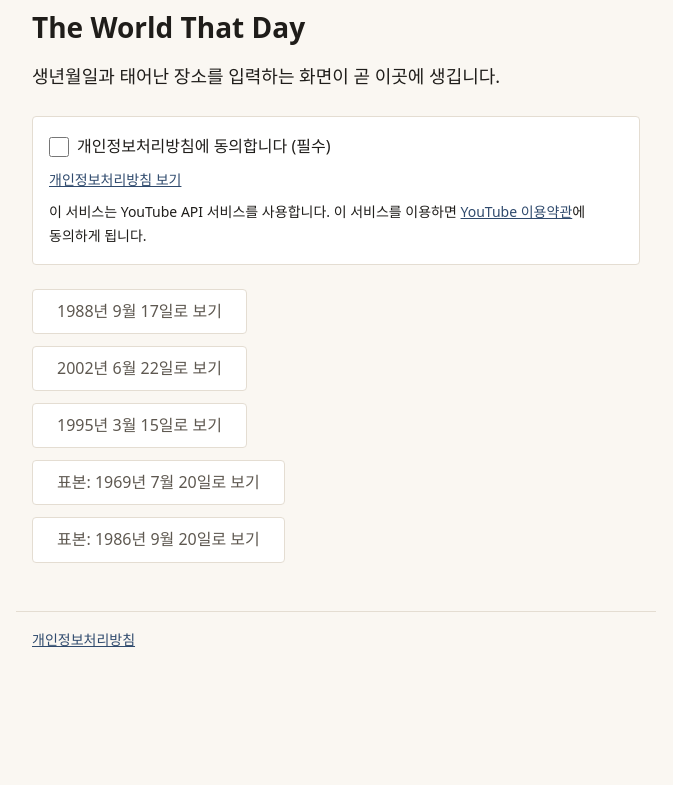
Test: event media and source links (CLAUDE.md 7.1) › keeps a non-http source URL as plain text, never a link
Step 1. Click the checkbox labelled "개인정보처리방침에 동의합니다 (필수)" → (59, 147), box [49, 137, 69, 157]
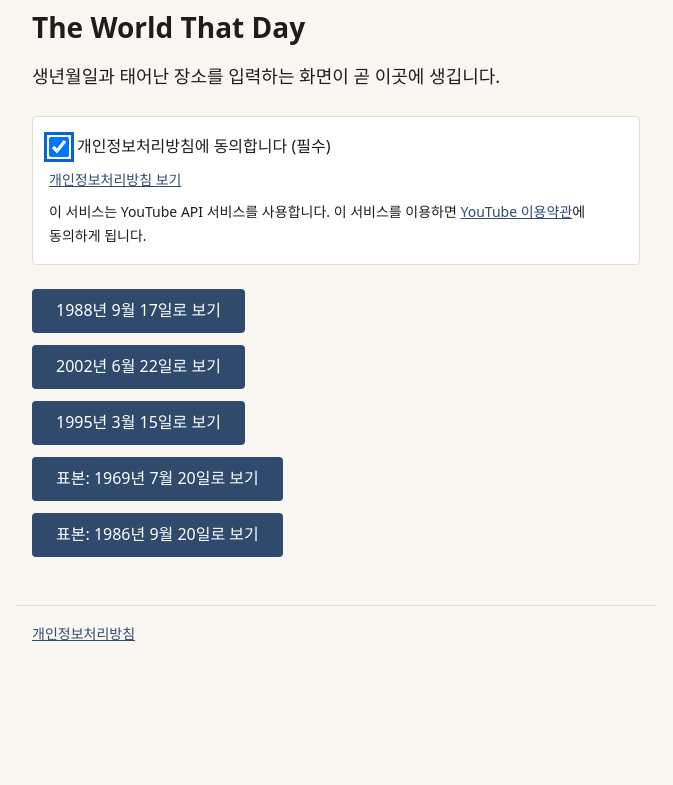
Step 2. Click the button "1988년 9월 17일로 보기" → (138, 311), box [32, 289, 245, 333]
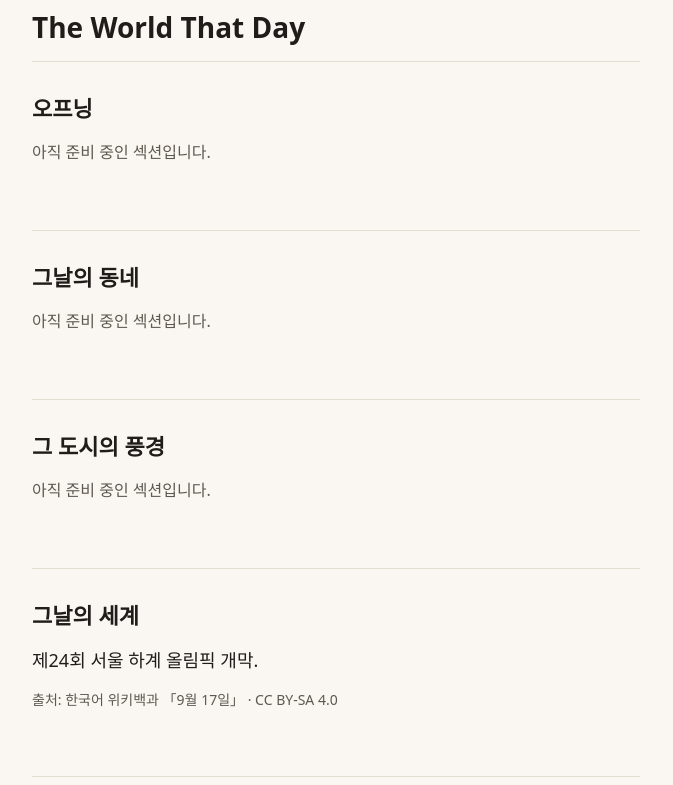
Now no the link "개인정보처리방침 보기" are shown
Now the list item shows "출처: 한국어 위키백과 「9월 17일」", box [32, 648, 338, 709]
Now the list item shows "CC BY-SA 4.0", box [255, 690, 338, 709]
